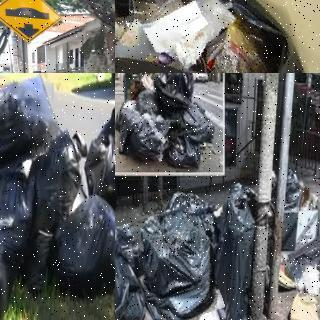Garbage: (115, 0, 320, 73), (136, 207, 217, 320), (0, 73, 66, 167), (0, 169, 41, 320), (53, 196, 115, 294), (211, 184, 253, 320), (81, 99, 115, 243), (115, 99, 168, 162), (115, 242, 145, 320), (152, 73, 193, 114)
